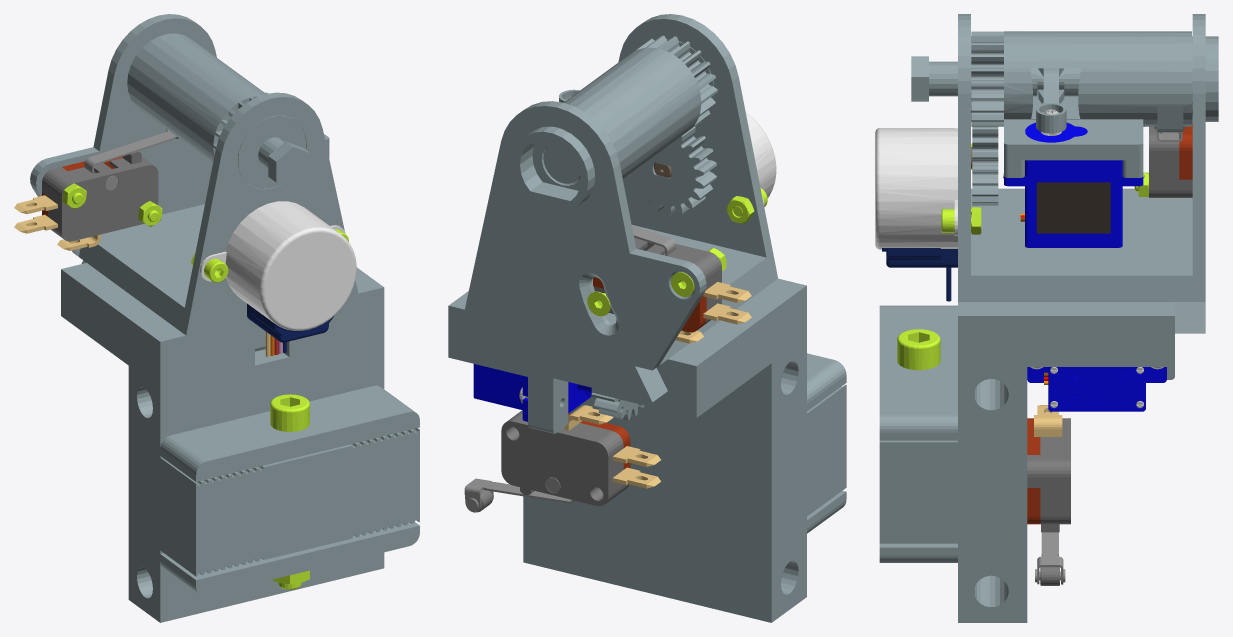
File: Endeffektor_bg1.obj
The picture shows the model from 3 angles, left to right: view 1: azimuth 30°, elevation 25°; view 2: azimuth 150°, elevation 25°; view 3: azimuth 270°, elevation 25°; orthographic projection. The views are drawn at different scales.
Parts seen in each view (by area): view 1: Endeffektor_bg1; view 2: Endeffektor_bg1; view 3: Endeffektor_bg1.
Boxes of the visible parts, x1,y1,x2,y2 form: Endeffektor_bg1: (14, 14, 419, 622); Endeffektor_bg1: (448, 14, 846, 622); Endeffektor_bg1: (875, 14, 1218, 622).
Size of the model in its own units: 88.93 by 138 by 79.
